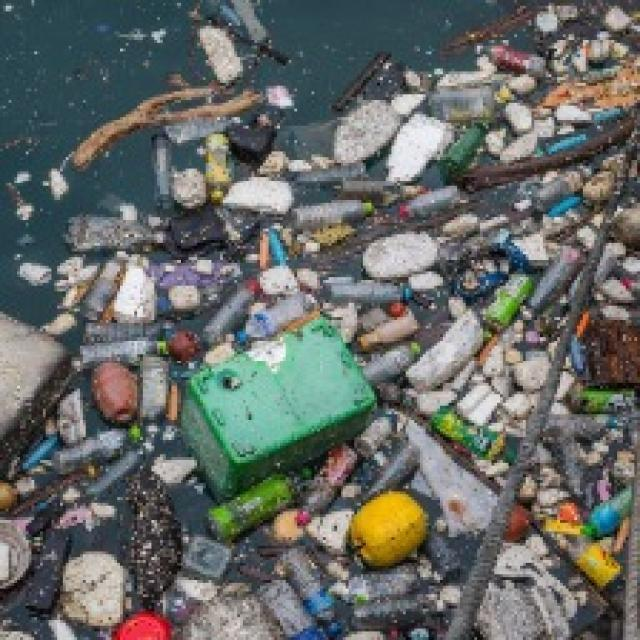food_waste: (338, 490, 441, 579)
glass: (449, 111, 493, 187)
heap: (163, 83, 640, 640)
plastic: (184, 325, 387, 492), (176, 531, 240, 586)
plastic_bottle: (420, 388, 510, 466), (209, 481, 294, 539), (55, 423, 149, 472), (81, 234, 129, 324), (581, 480, 640, 543), (484, 265, 537, 334), (79, 338, 169, 369)
